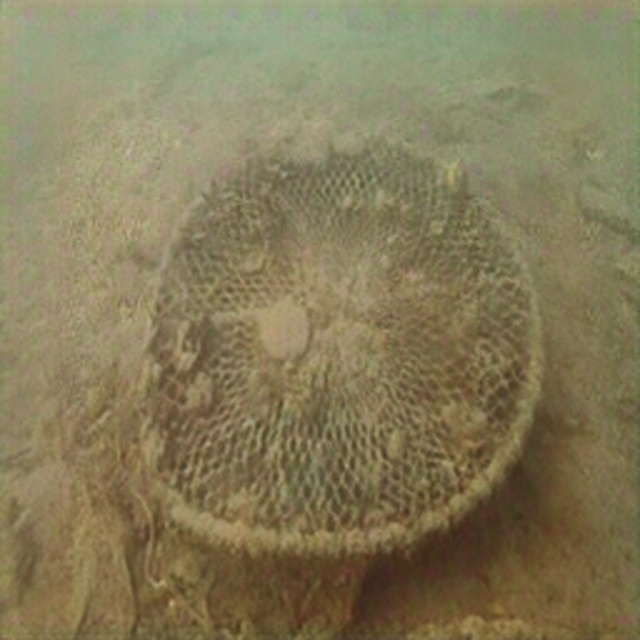mine: (138, 120, 547, 561)
